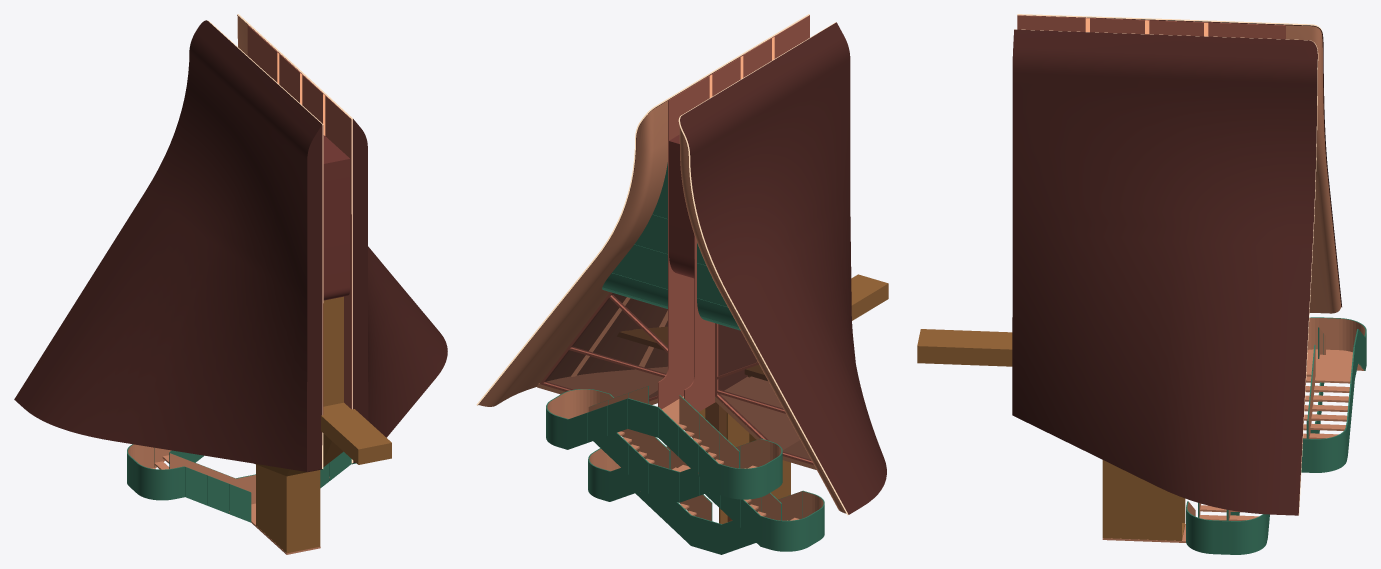
Rendered from dreamchasers.glb.
3 renders of one model, left to right at view 1: azimuth 30°, elevation 25°; view 2: azimuth 150°, elevation 25°; view 3: azimuth 270°, elevation 25°, orthographic. The views are drawn at different scales.
Visible parts, largest first — view 1: CHASERS, Group267, Box027, Box026, Box024; view 2: CHASERS, Group267, Line029, Box026, Box025, Box027, Box024, Box028; view 3: CHASERS, Group267, Box027, Line029, Box026.
Part boxes in pixels (x1,y1,x2,y2): CHASERS: [14, 14, 447, 471]; Group267: [127, 296, 356, 554]; Box027: [254, 402, 391, 553]; Box026: [247, 25, 352, 414]; Box024: [323, 135, 350, 300]; CHASERS: [476, 14, 886, 515]; Group267: [537, 292, 824, 554]; Line029: [478, 100, 846, 513]; Box026: [658, 15, 809, 412]; Box025: [602, 162, 740, 330]; Box027: [698, 274, 888, 524]; Box024: [669, 134, 694, 278]; Box028: [617, 327, 767, 380]; CHASERS: [1012, 14, 1341, 515]; Group267: [1102, 317, 1366, 554]; Box027: [917, 329, 1185, 540]; Line029: [1286, 25, 1341, 313]; Box026: [1017, 15, 1285, 39].
Bounding box in the file's own units: 14.68 × 16.45 × 13.23.
